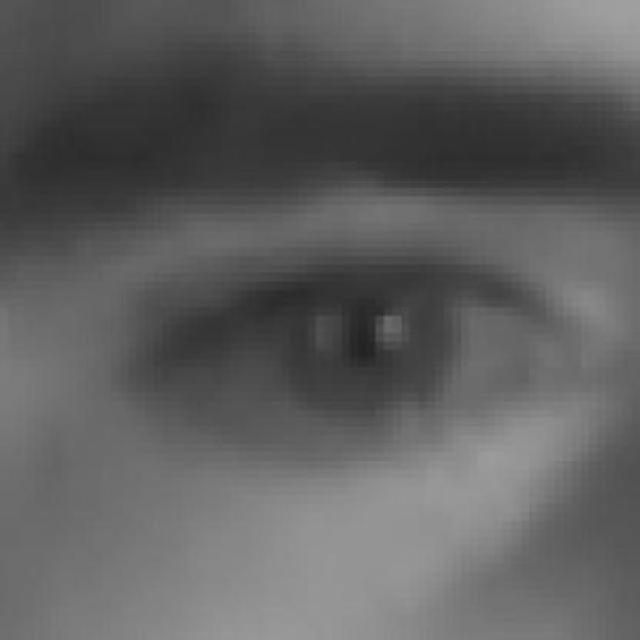awake: (122, 236, 586, 479)
